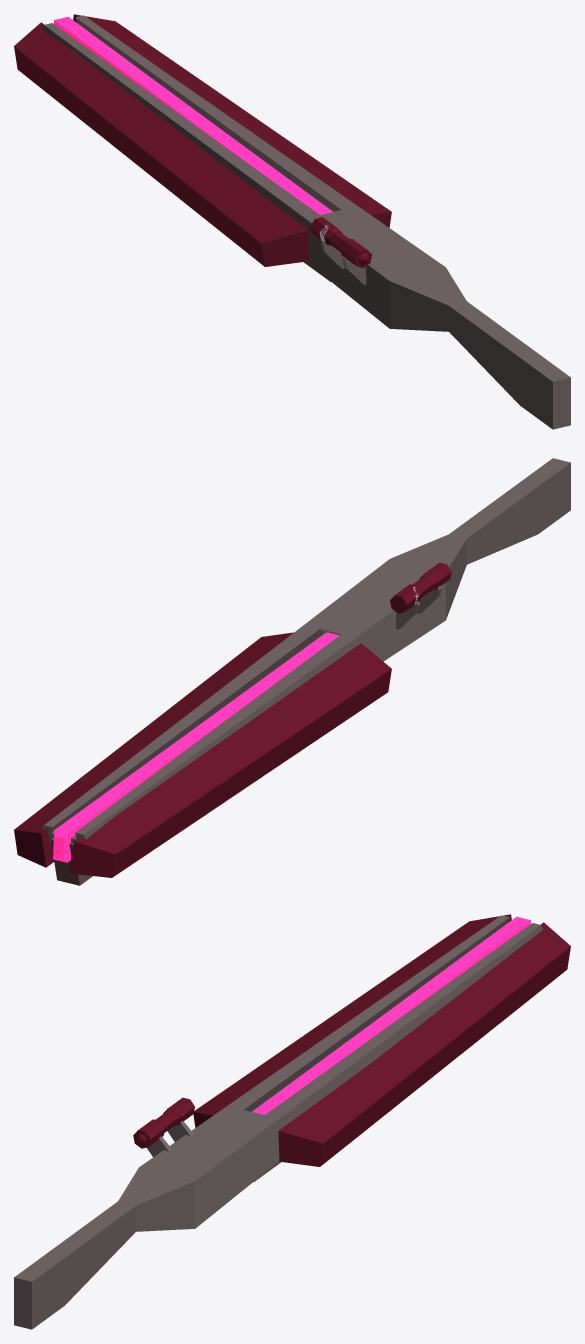
The model's file is riflevm.fbx.
3 renders of one model, top to bottom at view 1: azimuth 30°, elevation 25°; view 2: azimuth 150°, elevation 25°; view 3: azimuth 330°, elevation 25°, orthographic.
Visible parts, largest first — view 1: Cube, Cube.001, Cube.003, Cylinder, Cylinder.003; view 2: Cube.001, Cube, Cube.003, Cylinder, Cylinder.003, Cube.002; view 3: Cube, Cube.001, Cube.003, Cylinder, Cylinder.003.
Part boxes in pixels (x1,y1,x2,y2): Cube: (42, 15, 570, 429); Cube.001: (14, 14, 391, 266); Cube.003: (54, 16, 332, 214); Cylinder: (310, 217, 371, 267); Cylinder.003: (321, 241, 370, 284); Cube.001: (14, 632, 391, 877); Cube: (42, 458, 570, 843); Cube.003: (53, 632, 339, 862); Cylinder: (390, 562, 451, 613); Cylinder.003: (396, 586, 441, 629); Cube.002: (51, 838, 92, 885); Cube: (14, 915, 542, 1329); Cube.001: (193, 914, 570, 1166); Cube.003: (252, 916, 530, 1114); Cylinder: (133, 1097, 194, 1148); Cylinder.003: (147, 1121, 193, 1157).
Bounding box in the file's own units: 368 × 227 × 2463.
